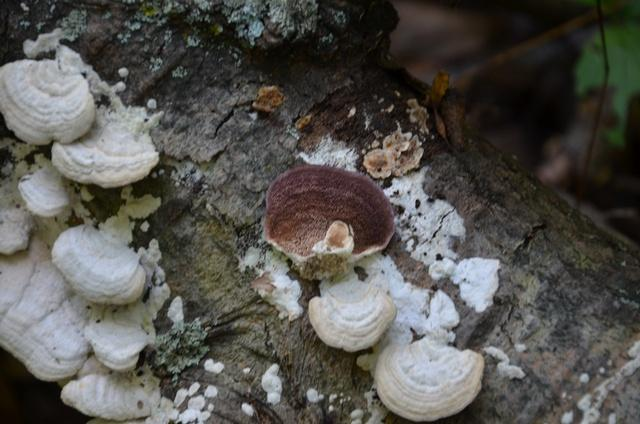Non-edible Mushroom: (0, 104, 174, 424), (261, 163, 396, 280), (372, 332, 485, 421), (0, 56, 96, 145), (50, 223, 147, 306), (307, 276, 397, 352)
